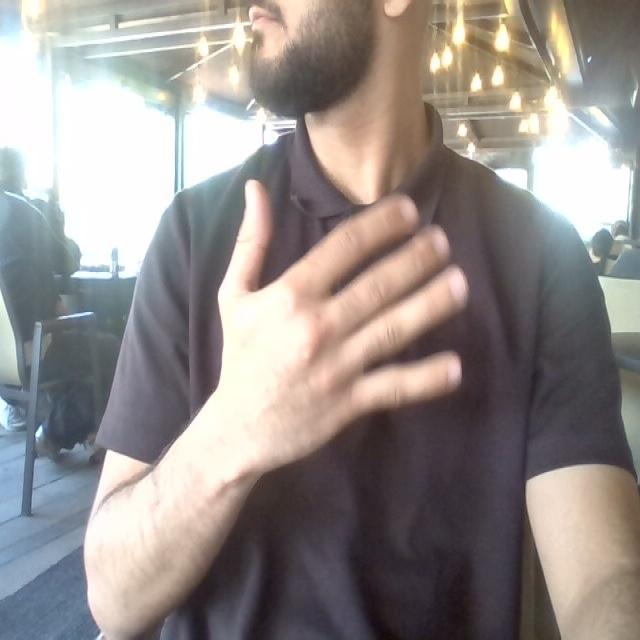Hand: (210, 182, 466, 471)
